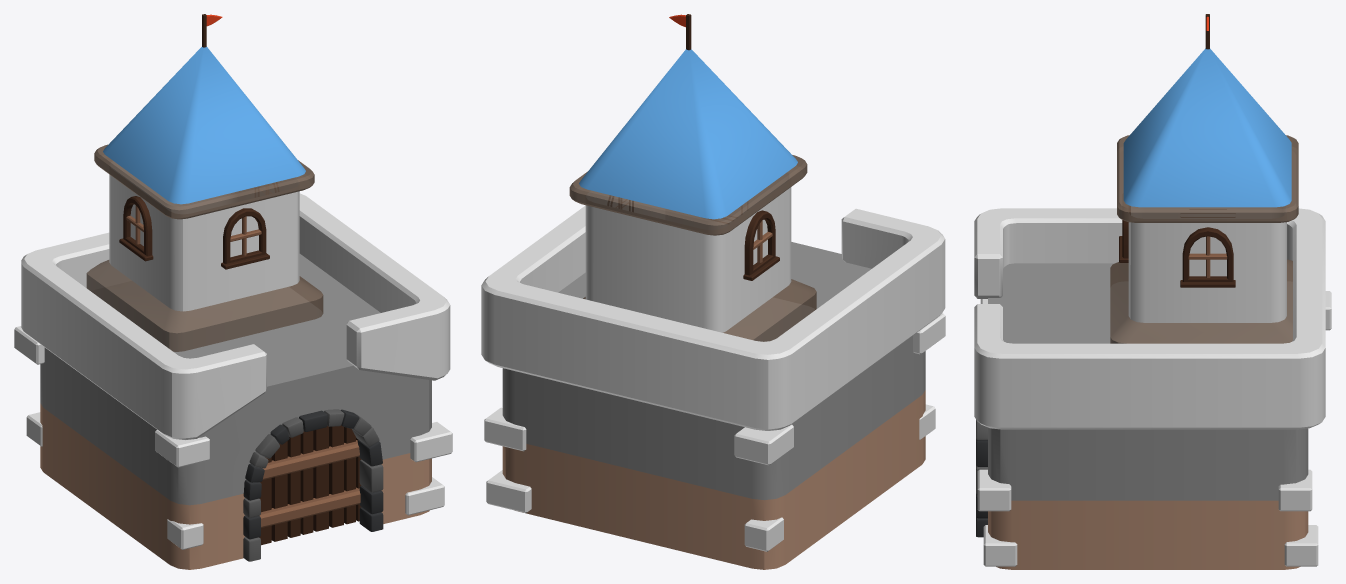
Rendered from Building 3.fbx.
3 views of the same model, side by side, from view 1: azimuth 30°, elevation 25°; view 2: azimuth 150°, elevation 25°; view 3: azimuth 270°, elevation 25° (orthographic). The views are drawn at different scales.
Visible parts, largest first — view 1: Building 3.001; view 2: Building 3.001; view 3: Building 3.001.
Part boxes in pixels (bbox=[...]): Building 3.001: bbox=[14, 14, 452, 569]; Building 3.001: bbox=[481, 14, 945, 569]; Building 3.001: bbox=[974, 14, 1331, 569].
Bounding box in the file's own units: 2.33 × 3.55 × 2.37.
